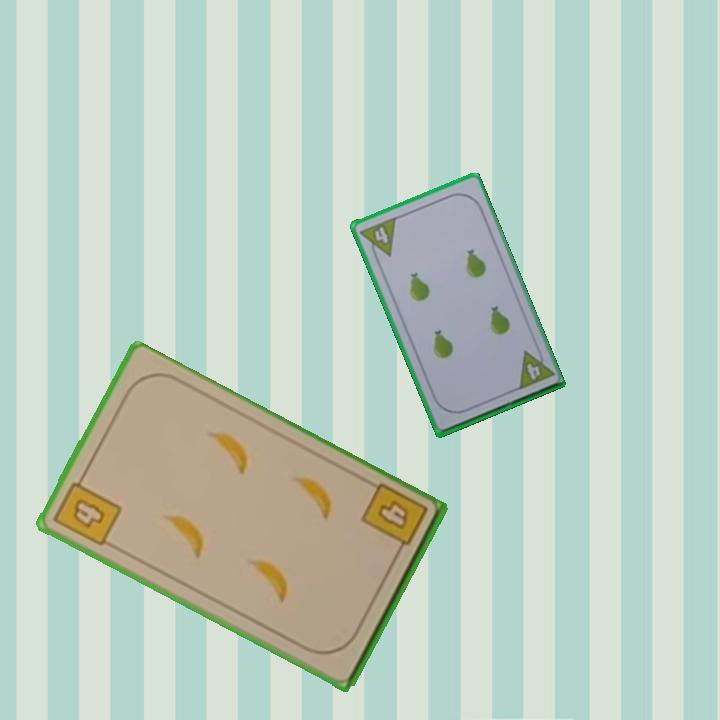4b: (49, 470, 125, 550), (357, 480, 431, 561)
4p: (356, 213, 399, 264), (513, 343, 556, 393)
